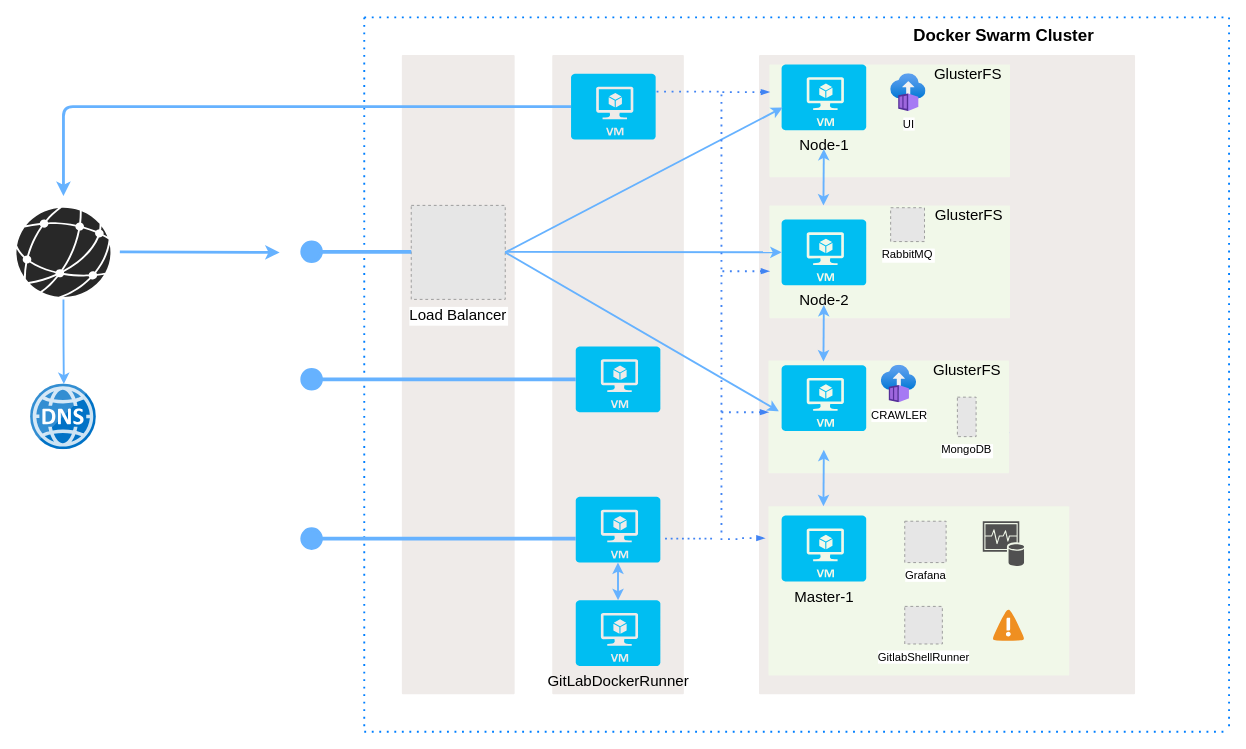
Some shapes in this 1246 by 749 pixel diagram are drawn without their labels. Grey dashed boxes stand in for pictures. Each missing label, with the centre of its shape:
Alertmanager: (x=1008, y=624)
Bastion (Jumpbox): (x=617, y=379)
GitLab: (x=617, y=529)
NAT-VM: (x=613, y=106)
Node-3: (x=823, y=398)
Prometheus: (x=1003, y=543)
